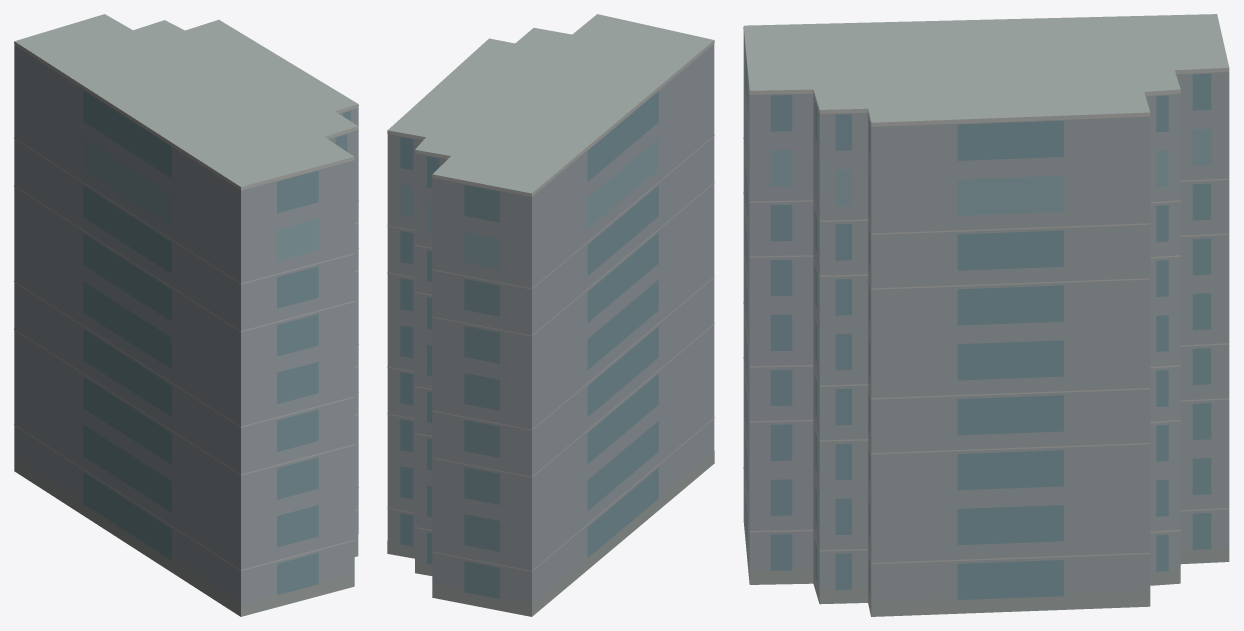
The model's file is survey-upis-32960510.glb.
3 views of the same model, side by side, from view 1: azimuth 30°, elevation 25°; view 2: azimuth 150°, elevation 25°; view 3: azimuth 270°, elevation 25° (orthographic). The views are drawn at different scales.
Visible parts, largest first — view 1: survey-upis-32960510.tmp; view 2: survey-upis-32960510.tmp; view 3: survey-upis-32960510.tmp.
Boxes of the visible parts, box(x1,y1,x2,y2) form: survey-upis-32960510.tmp: box(14, 14, 358, 616); survey-upis-32960510.tmp: box(387, 14, 714, 616); survey-upis-32960510.tmp: box(743, 14, 1229, 616).
Size of the model in its own units: 13.91 by 29.4 by 26.22.
